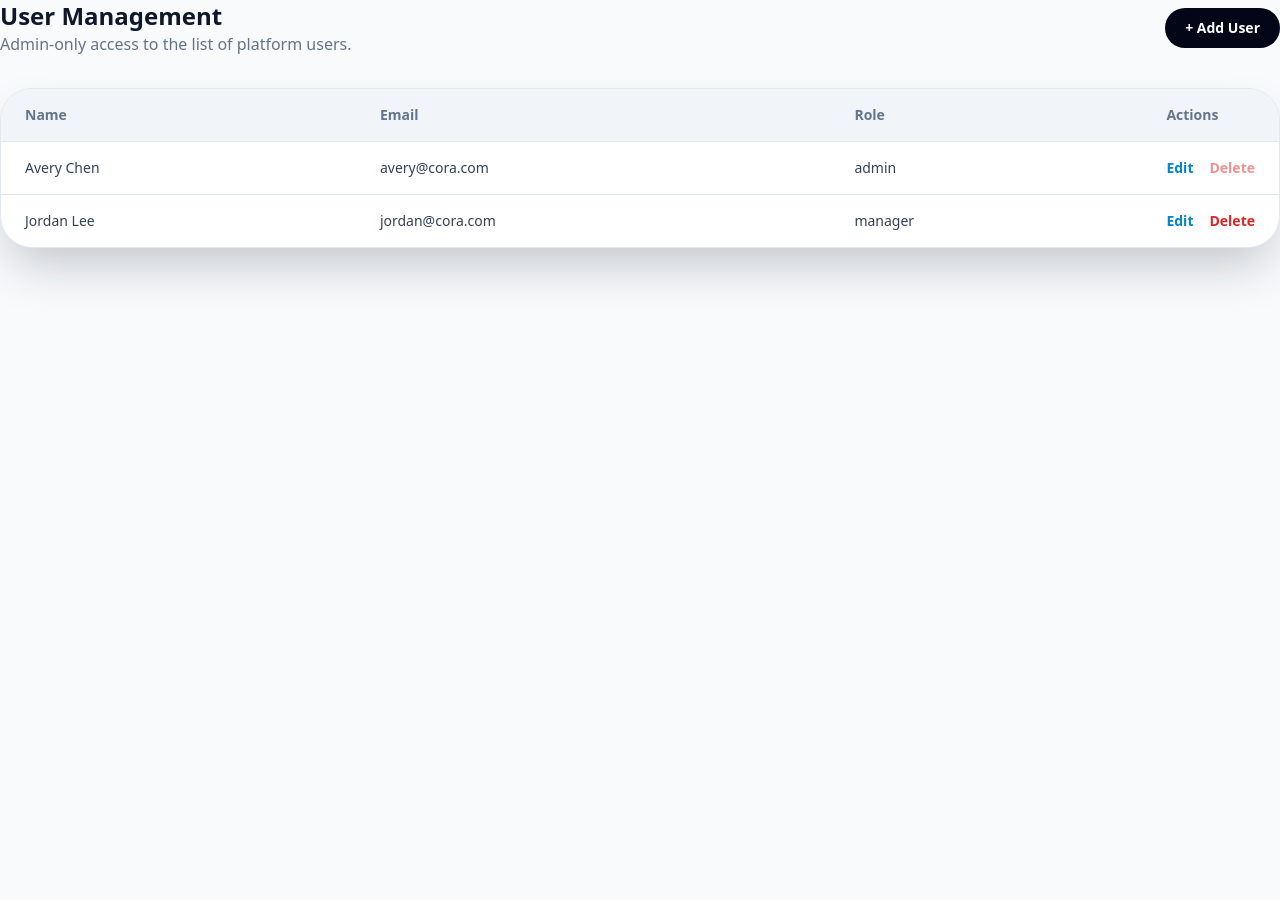
it: Users Component › shows the Add User button for admins and opens the modal
// Click it to open the modal
Click the button "+ Add User" at (1223, 28), box [1165,8,1279,48]
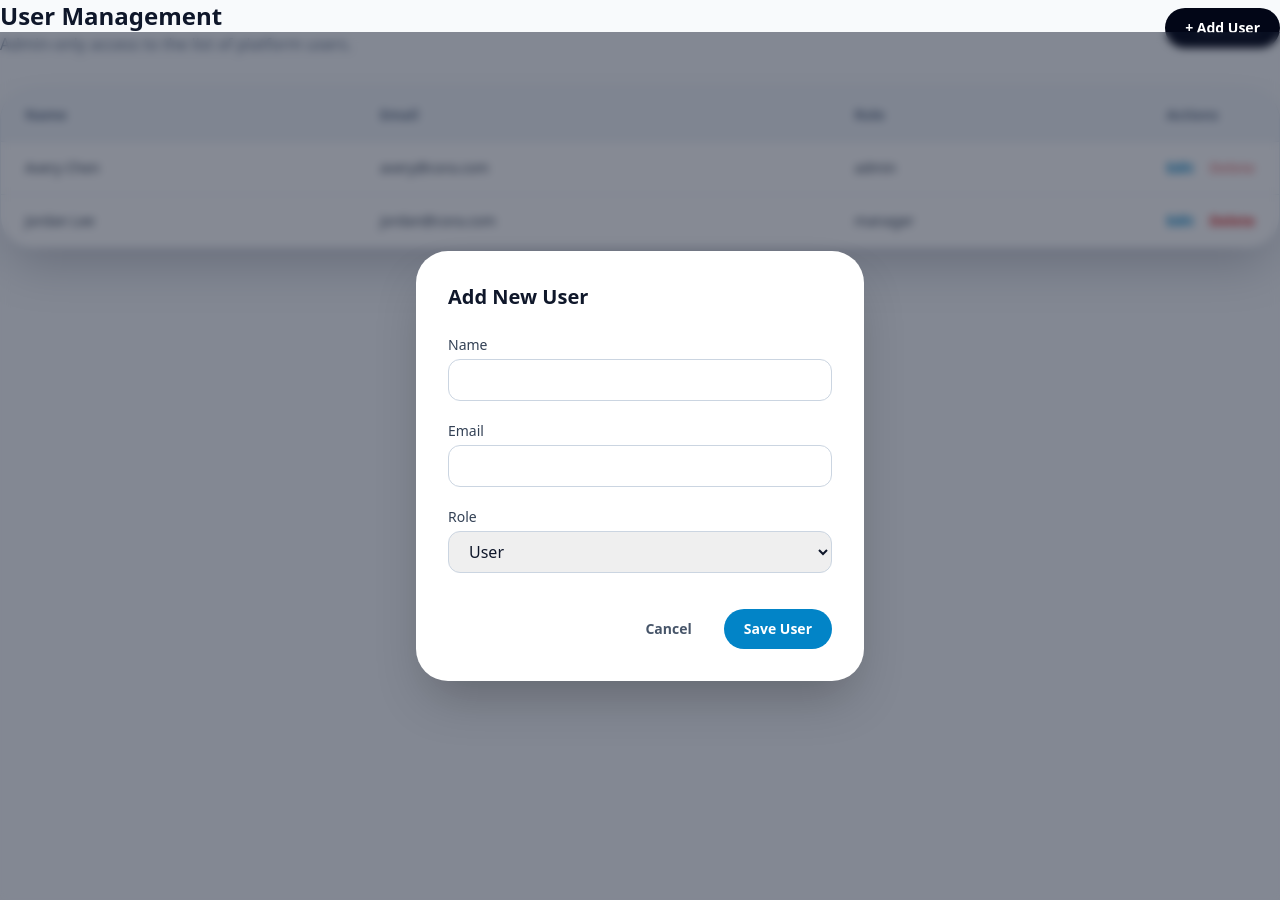
Now the heading "Add New User" is shown, box [448,283,588,310]
Now the field labelled "Name" is shown, box [448,359,832,401]
Now the button "Save User" is shown, box [724,609,832,649]
